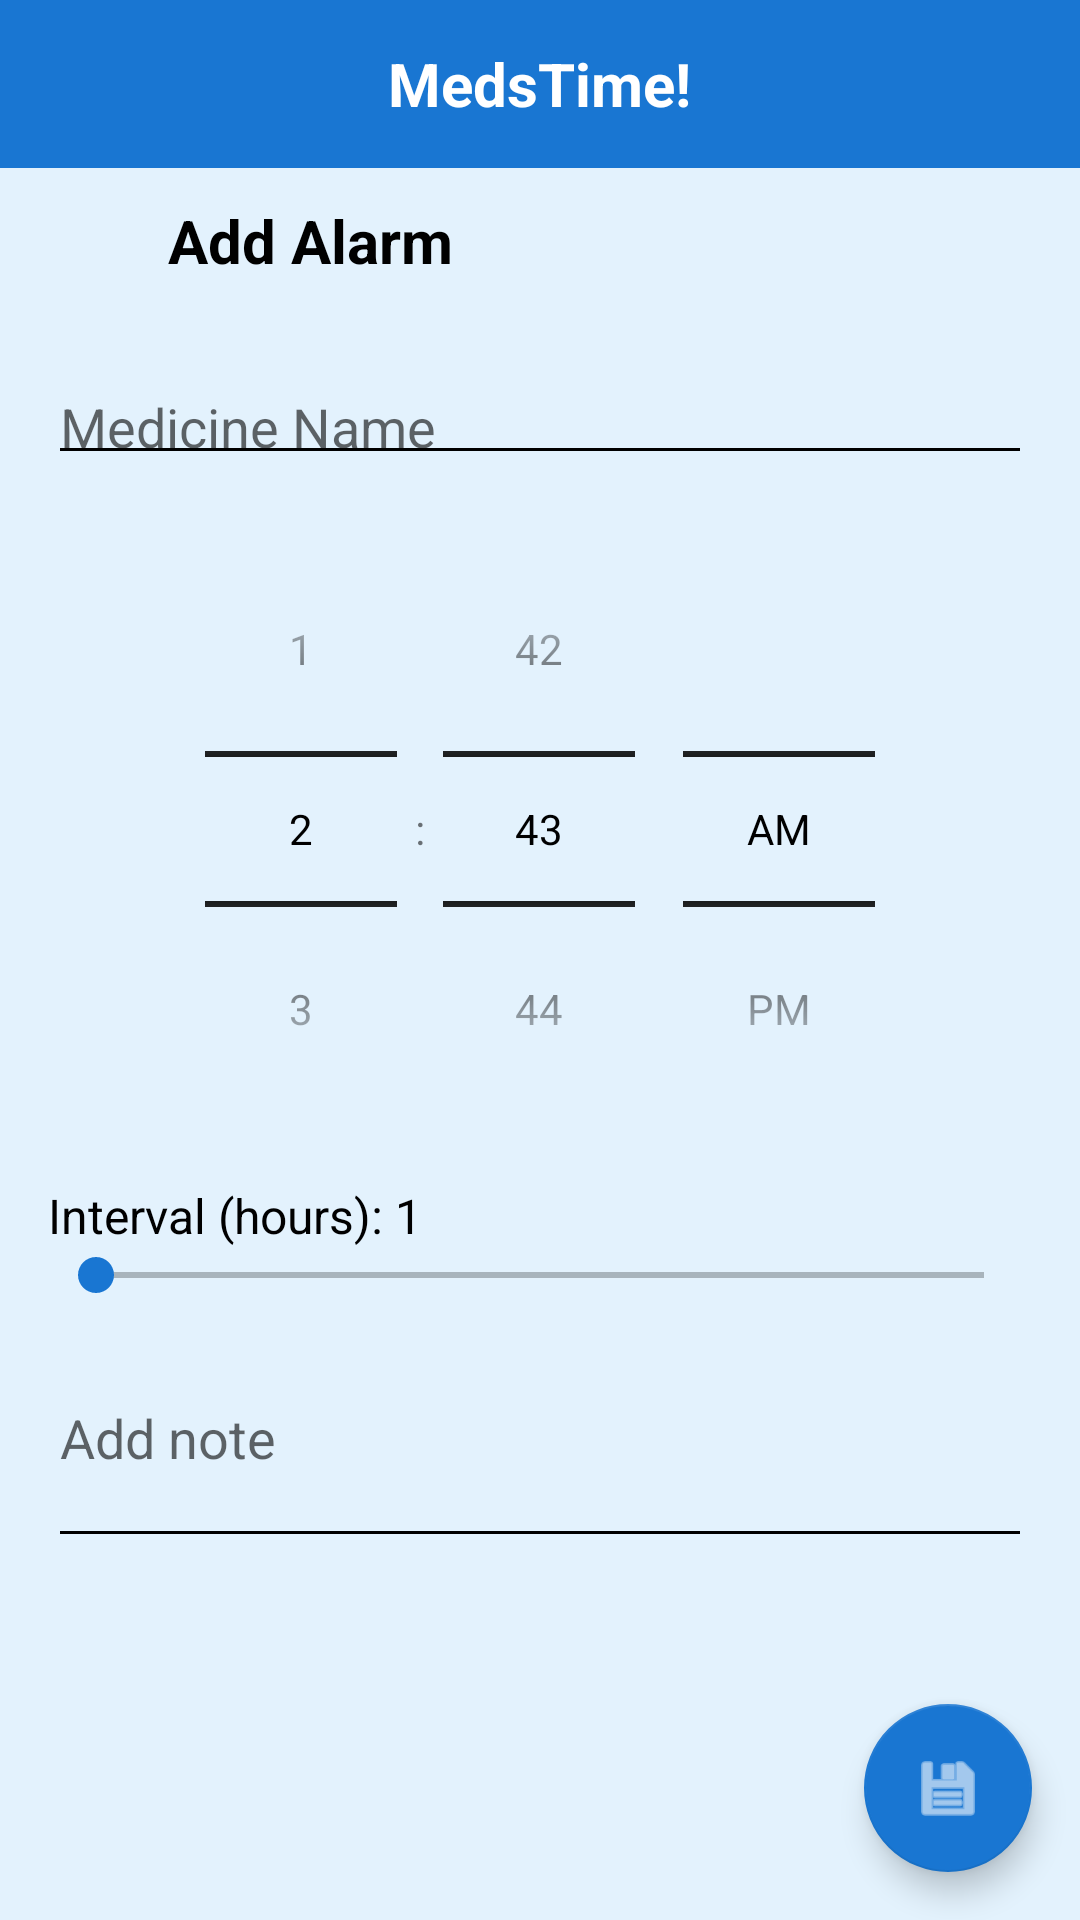

Icon click points for this 1080 × 1920 phone screenshot, format point (x, y):
Save alarm: point (948, 1788)
